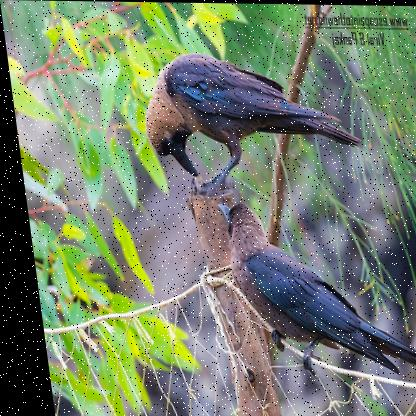Burung: (213, 203, 416, 378)
